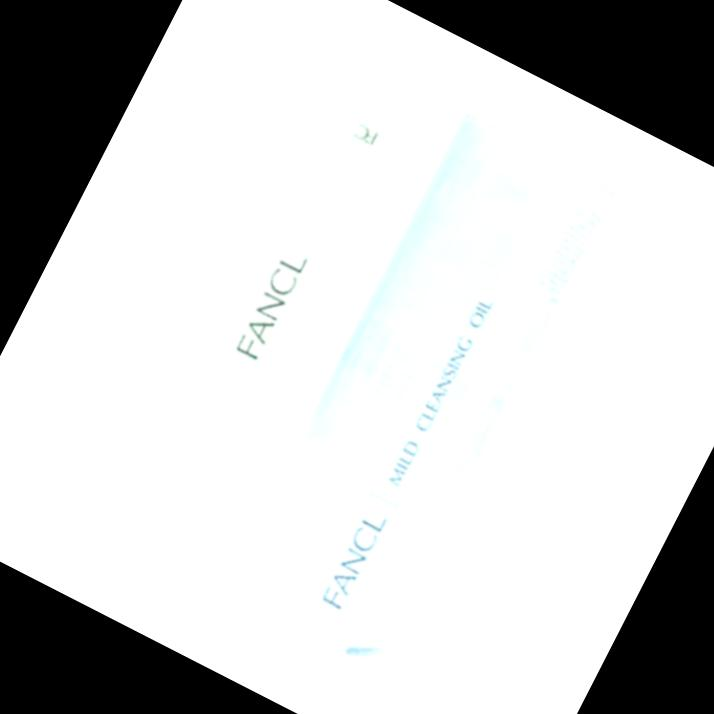cosmetic: (90, 47, 455, 566)
